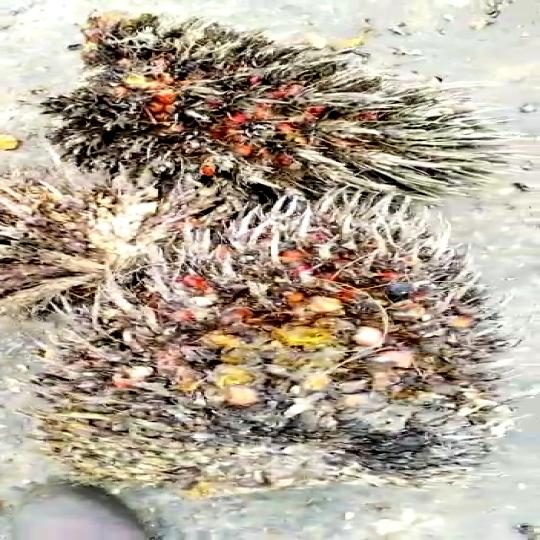terlalu masak: (43, 176, 491, 486), (58, 21, 486, 189)
